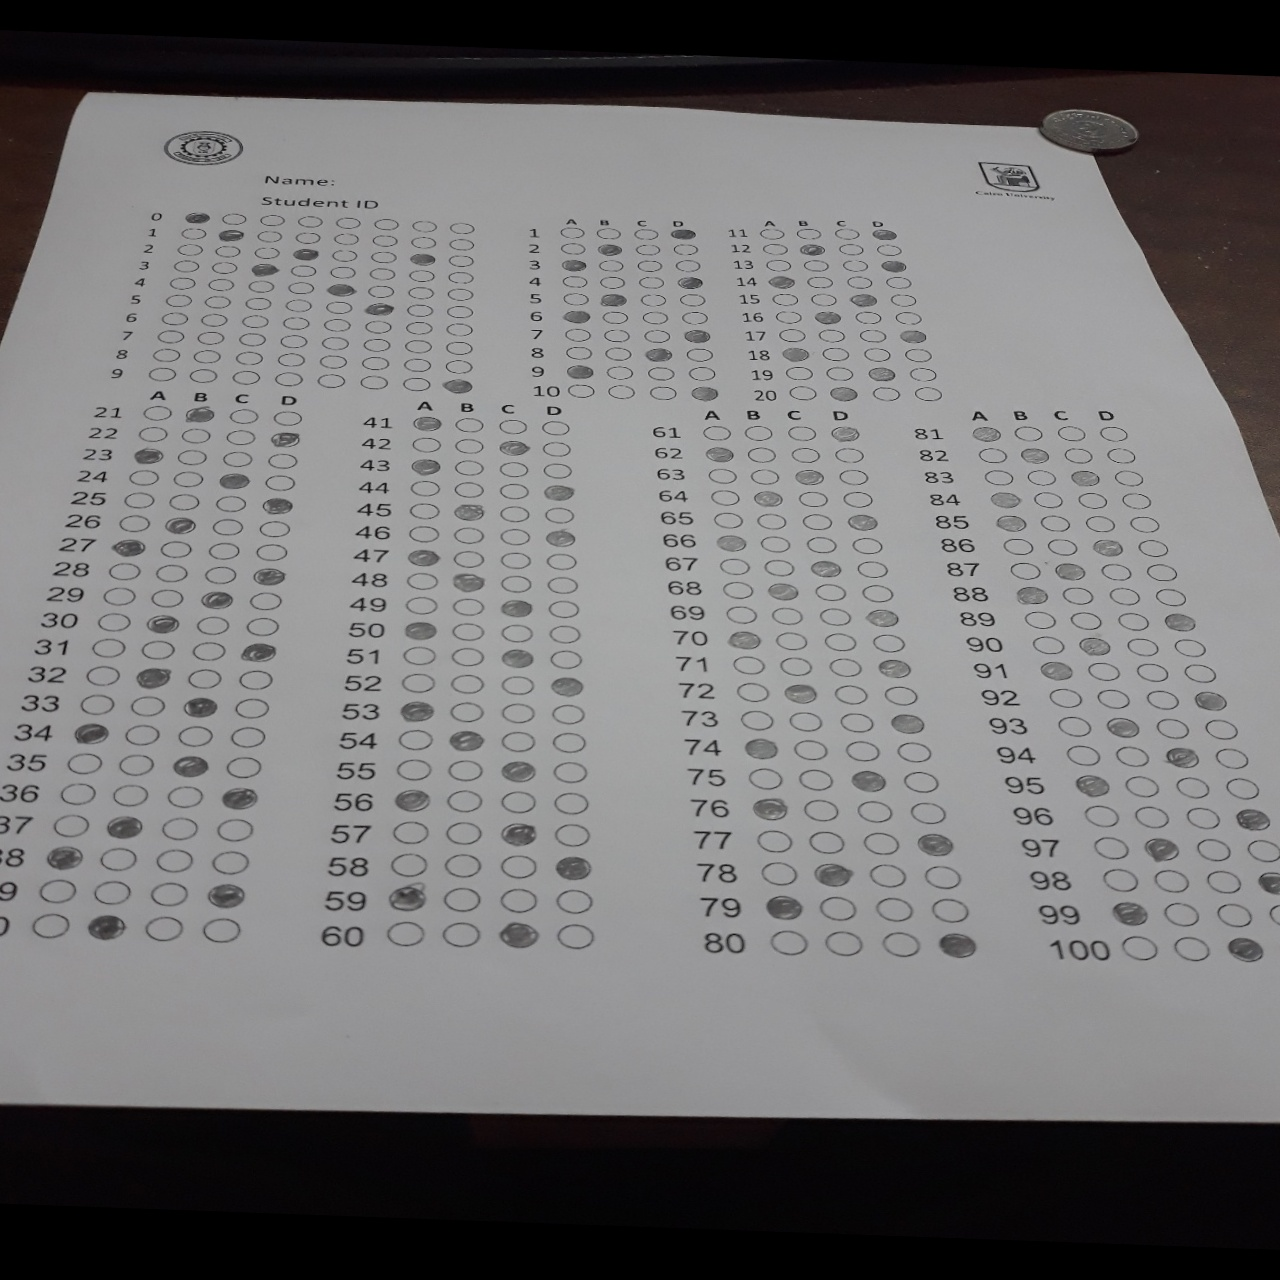not-c: (93, 877, 137, 906), (105, 781, 150, 810), (27, 912, 75, 939), (139, 915, 188, 942), (95, 845, 139, 873), (210, 847, 252, 874), (225, 753, 267, 779), (233, 666, 275, 693), (440, 886, 481, 913), (445, 821, 486, 847), (445, 787, 486, 813), (910, 798, 947, 828), (387, 920, 427, 947), (819, 896, 859, 922), (794, 734, 833, 761), (796, 767, 836, 794), (57, 779, 98, 805), (117, 751, 158, 777), (215, 817, 256, 843), (226, 724, 267, 750), (241, 614, 282, 640), (442, 920, 483, 946), (806, 829, 847, 855), (1213, 745, 1254, 771), (1201, 716, 1242, 742), (825, 930, 864, 956), (1163, 900, 1201, 927), (442, 851, 482, 877), (768, 930, 808, 955), (1201, 869, 1241, 894), (932, 894, 968, 922), (925, 862, 961, 890), (556, 886, 593, 913), (881, 930, 919, 956), (77, 692, 118, 716), (64, 749, 105, 774), (38, 878, 79, 903), (122, 721, 163, 745), (229, 694, 270, 719), (247, 588, 286, 614), (802, 795, 840, 821), (870, 863, 908, 888), (874, 896, 913, 921), (84, 663, 124, 688), (202, 918, 241, 942), (447, 619, 486, 644), (1091, 835, 1131, 859), (1224, 776, 1264, 801), (557, 922, 593, 949), (554, 821, 591, 847), (551, 758, 588, 784), (549, 701, 586, 727), (862, 830, 899, 856), (1119, 934, 1157, 960), (1171, 934, 1208, 960), (1152, 867, 1190, 893), (1135, 803, 1172, 829), (50, 812, 91, 836), (1099, 869, 1138, 893), (1193, 837, 1232, 862), (1216, 903, 1254, 927), (499, 853, 536, 879), (498, 887, 535, 913), (552, 791, 588, 817), (550, 730, 586, 756), (147, 586, 186, 610), (159, 816, 199, 839), (148, 881, 188, 905), (447, 670, 486, 694), (756, 829, 794, 853), (1123, 774, 1160, 798), (139, 636, 178, 660), (448, 700, 486, 723), (448, 645, 486, 668), (901, 769, 938, 794), (898, 738, 934, 763), (1244, 838, 1280, 863), (94, 610, 134, 632), (155, 850, 195, 872), (761, 862, 798, 885), (445, 760, 486, 781), (549, 648, 584, 673), (166, 785, 205, 808), (776, 655, 815, 678), (1173, 776, 1212, 798), (1183, 806, 1221, 829), (397, 727, 434, 750), (745, 767, 782, 790), (1114, 744, 1150, 768), (1096, 688, 1132, 712), (98, 586, 138, 607), (127, 694, 166, 715), (190, 640, 230, 661), (501, 673, 535, 697), (501, 728, 535, 753), (501, 788, 535, 812), (788, 709, 825, 731), (772, 629, 810, 652), (767, 602, 804, 625), (849, 536, 886, 558), (1136, 535, 1173, 557), (881, 682, 917, 706), (1183, 661, 1218, 685), (152, 561, 191, 583), (176, 726, 215, 747), (396, 758, 433, 781), (1155, 716, 1191, 738), (501, 700, 535, 723), (546, 572, 580, 595), (542, 459, 576, 483), (91, 638, 131, 658), (185, 668, 225, 688), (254, 540, 292, 561), (451, 595, 489, 617), (449, 524, 486, 545), (760, 533, 797, 554), (1082, 805, 1119, 826), (1128, 512, 1165, 533), (392, 821, 427, 843), (392, 855, 427, 877), (455, 458, 490, 481), (844, 738, 879, 761), (857, 799, 892, 822), (1065, 743, 1101, 765), (1029, 488, 1064, 510), (1173, 635, 1208, 658), (447, 550, 485, 570), (539, 416, 572, 440), (264, 450, 300, 471), (763, 554, 799, 576), (828, 656, 864, 678), (855, 559, 891, 580), (835, 467, 871, 488), (1056, 716, 1092, 737), (1152, 587, 1189, 608), (539, 440, 573, 462), (1046, 535, 1080, 557), (1039, 511, 1073, 533), (399, 646, 436, 666), (399, 672, 436, 692), (858, 583, 896, 602), (452, 479, 488, 501), (449, 435, 484, 456), (450, 414, 485, 435), (833, 683, 869, 704), (871, 631, 906, 652), (840, 489, 876, 510), (1068, 610, 1103, 631), (1060, 584, 1095, 605), (1144, 561, 1179, 583), (547, 598, 580, 620), (543, 549, 576, 571), (544, 504, 577, 526), (823, 632, 859, 652), (837, 712, 873, 731), (549, 624, 583, 645), (1087, 660, 1121, 681), (742, 709, 774, 731), (170, 468, 205, 488), (175, 447, 210, 467), (264, 474, 299, 493), (976, 445, 1012, 465), (1023, 610, 1058, 629), (1048, 688, 1083, 708), (819, 606, 852, 627), (407, 501, 441, 520), (501, 622, 535, 642), (797, 488, 831, 508), (831, 444, 865, 464), (980, 467, 1014, 486), (165, 492, 200, 511), (225, 408, 263, 425), (223, 429, 260, 447), (213, 495, 251, 512), (207, 543, 245, 560), (195, 617, 232, 634), (257, 519, 292, 538), (1032, 636, 1067, 655), (1111, 468, 1146, 486), (706, 467, 738, 486), (815, 583, 847, 602), (1126, 636, 1159, 656), (1146, 689, 1179, 709), (1013, 422, 1043, 443), (1101, 561, 1131, 583), (202, 565, 238, 583), (125, 468, 159, 486), (122, 490, 156, 509), (107, 561, 141, 580), (804, 535, 838, 553), (1007, 561, 1041, 580), (1121, 490, 1155, 509), (1104, 445, 1138, 464), (219, 451, 257, 468), (210, 518, 247, 535), (726, 606, 758, 625), (1109, 587, 1139, 607), (1117, 610, 1148, 629), (116, 515, 150, 532), (1001, 537, 1035, 554), (1097, 425, 1133, 442), (409, 524, 441, 543), (700, 422, 731, 441), (713, 509, 744, 527), (734, 656, 765, 675), (749, 467, 781, 485), (784, 423, 816, 442), (1057, 422, 1087, 442), (1064, 444, 1094, 464), (1085, 512, 1115, 532), (134, 424, 166, 442), (178, 427, 213, 443), (271, 408, 304, 425), (409, 435, 442, 452), (408, 478, 441, 496), (404, 595, 437, 613), (754, 512, 787, 530), (790, 445, 823, 463), (801, 513, 833, 531), (501, 574, 531, 593), (708, 488, 738, 506), (719, 557, 749, 576), (723, 579, 754, 598), (1027, 469, 1057, 488), (1137, 662, 1167, 681), (743, 423, 777, 440), (406, 572, 437, 590), (498, 415, 527, 434), (501, 526, 530, 545), (501, 551, 530, 570), (1077, 490, 1107, 509), (239, 312, 270, 329), (497, 459, 527, 477), (737, 683, 768, 701), (318, 334, 349, 350), (331, 246, 362, 263), (236, 331, 267, 347), (744, 445, 776, 462), (402, 356, 431, 374), (403, 335, 433, 353), (499, 483, 529, 501), (501, 504, 530, 522), (881, 275, 914, 291), (886, 293, 919, 308), (892, 311, 925, 326), (901, 348, 934, 363), (906, 366, 939, 381), (869, 387, 901, 402), (314, 373, 345, 389), (318, 352, 348, 368), (324, 298, 354, 314), (331, 231, 361, 247), (233, 349, 264, 366), (404, 318, 433, 335), (404, 300, 433, 318), (873, 241, 905, 257), (911, 386, 942, 401), (862, 346, 891, 362), (803, 256, 832, 272), (804, 273, 833, 290), (811, 292, 840, 308), (821, 345, 850, 361), (824, 365, 853, 381), (760, 225, 789, 241), (672, 259, 701, 275), (604, 345, 633, 361), (565, 381, 594, 397), (328, 264, 358, 280), (761, 241, 791, 257), (320, 316, 350, 332), (331, 215, 361, 230), (293, 215, 324, 230), (257, 212, 287, 227), (252, 229, 282, 244), (217, 211, 247, 226), (211, 243, 241, 258), (855, 309, 883, 326), (835, 223, 863, 239), (818, 327, 846, 343), (789, 384, 817, 401), (778, 327, 806, 343), (771, 291, 799, 307), (594, 225, 622, 241), (595, 257, 624, 273), (560, 239, 588, 256), (445, 358, 474, 374), (401, 376, 429, 393), (407, 284, 433, 301), (411, 215, 437, 232), (859, 328, 888, 343), (794, 225, 823, 240), (784, 365, 813, 380), (764, 258, 794, 273), (670, 241, 700, 257), (679, 309, 708, 325), (685, 346, 714, 361), (688, 366, 717, 381), (647, 363, 676, 379), (641, 309, 670, 325), (632, 241, 661, 257), (633, 225, 662, 240), (598, 274, 627, 290), (606, 383, 635, 399), (563, 343, 592, 359), (561, 327, 591, 342), (284, 297, 313, 312), (189, 368, 218, 383), (151, 348, 181, 363), (177, 240, 206, 256), (248, 277, 275, 293), (676, 294, 704, 309), (646, 384, 676, 399), (644, 327, 672, 342), (640, 293, 668, 308), (636, 274, 665, 290), (636, 258, 665, 273), (602, 328, 631, 343), (447, 253, 477, 267), (445, 340, 474, 355), (280, 315, 308, 331), (277, 350, 305, 366), (231, 368, 259, 383), (251, 245, 281, 259), (207, 277, 236, 292), (205, 294, 233, 309), (148, 366, 176, 381), (159, 312, 188, 327), (165, 293, 193, 308), (166, 274, 195, 290), (172, 256, 200, 271), (179, 226, 207, 241), (840, 258, 870, 272), (835, 241, 864, 256), (775, 309, 804, 324), (600, 309, 629, 324), (604, 365, 633, 379), (561, 291, 591, 305), (444, 286, 474, 300), (445, 304, 475, 318), (445, 322, 475, 336), (286, 281, 315, 295), (273, 372, 302, 386), (192, 350, 222, 365), (847, 275, 874, 291), (561, 274, 588, 290), (363, 320, 390, 335), (362, 356, 389, 372), (360, 374, 387, 389), (200, 311, 227, 326), (144, 406, 171, 421), (373, 213, 397, 230), (372, 231, 396, 247), (295, 229, 324, 243), (198, 329, 226, 343), (156, 329, 184, 343), (556, 225, 586, 238), (445, 222, 476, 234), (447, 238, 477, 251), (407, 267, 433, 282), (411, 234, 437, 250), (243, 297, 273, 309), (368, 265, 395, 279), (367, 284, 394, 298), (210, 260, 237, 274), (290, 263, 316, 277), (279, 334, 306, 348), (444, 270, 474, 282), (362, 338, 388, 352), (370, 250, 397, 263), (1268, 903, 1280, 928), (1276, 935, 1280, 964)
taken-c: (498, 917, 542, 948), (493, 755, 537, 787), (496, 817, 539, 847), (86, 908, 127, 940), (45, 840, 86, 871), (493, 642, 535, 670), (207, 881, 248, 908), (177, 693, 218, 720), (102, 815, 147, 839), (195, 586, 234, 613), (72, 719, 111, 745), (72, 719, 110, 745), (803, 554, 843, 580), (171, 753, 211, 778), (847, 769, 888, 794), (445, 726, 484, 751), (935, 933, 978, 956), (403, 411, 443, 436), (265, 427, 305, 451), (250, 564, 290, 588), (445, 499, 486, 523), (392, 788, 433, 811), (404, 545, 445, 568), (404, 455, 443, 479), (812, 862, 851, 886), (554, 855, 590, 881), (1090, 535, 1126, 560), (489, 435, 529, 458), (394, 699, 434, 722), (399, 620, 438, 644), (257, 495, 297, 518), (222, 785, 261, 809), (1233, 808, 1271, 832), (1047, 558, 1084, 583), (967, 420, 1005, 444), (764, 896, 802, 920), (386, 887, 427, 910), (238, 642, 279, 665), (450, 570, 489, 593), (181, 401, 219, 424), (132, 666, 171, 689), (1160, 610, 1197, 634), (1192, 688, 1228, 713), (987, 488, 1023, 512), (109, 535, 145, 559), (1143, 837, 1180, 860), (1012, 583, 1049, 606), (824, 422, 862, 445), (844, 510, 881, 533), (754, 794, 788, 819), (1016, 442, 1051, 467), (888, 710, 924, 735), (742, 735, 777, 760), (144, 612, 183, 634), (1226, 937, 1262, 960), (1076, 634, 1112, 658), (1114, 903, 1150, 926), (1076, 772, 1112, 796), (1036, 658, 1073, 681), (863, 606, 899, 629), (700, 441, 733, 467), (542, 481, 576, 505), (1160, 745, 1198, 768), (1068, 467, 1105, 489), (993, 512, 1030, 535), (159, 512, 197, 535), (1105, 715, 1141, 738), (915, 833, 951, 857), (874, 656, 911, 679), (714, 532, 748, 556), (129, 442, 163, 465), (788, 467, 828, 486), (745, 489, 785, 509), (761, 581, 799, 601), (728, 627, 761, 651), (544, 526, 577, 550), (218, 470, 251, 493), (782, 683, 815, 706), (550, 676, 583, 699), (407, 248, 438, 268), (595, 290, 627, 309), (179, 207, 211, 226), (291, 244, 322, 263), (442, 376, 474, 395), (1257, 871, 1280, 896), (215, 225, 247, 243), (324, 281, 355, 299), (564, 363, 595, 381), (557, 257, 588, 274), (692, 383, 719, 403), (681, 325, 708, 345), (248, 259, 279, 277), (362, 300, 393, 318), (560, 308, 591, 326), (593, 239, 621, 258), (675, 272, 702, 291), (765, 272, 794, 290), (879, 258, 907, 275), (646, 343, 672, 362), (782, 343, 809, 361), (830, 384, 858, 401), (795, 240, 823, 257), (847, 291, 876, 307), (867, 367, 896, 383), (898, 327, 926, 343), (811, 309, 839, 325), (870, 226, 897, 241), (669, 223, 694, 239)
